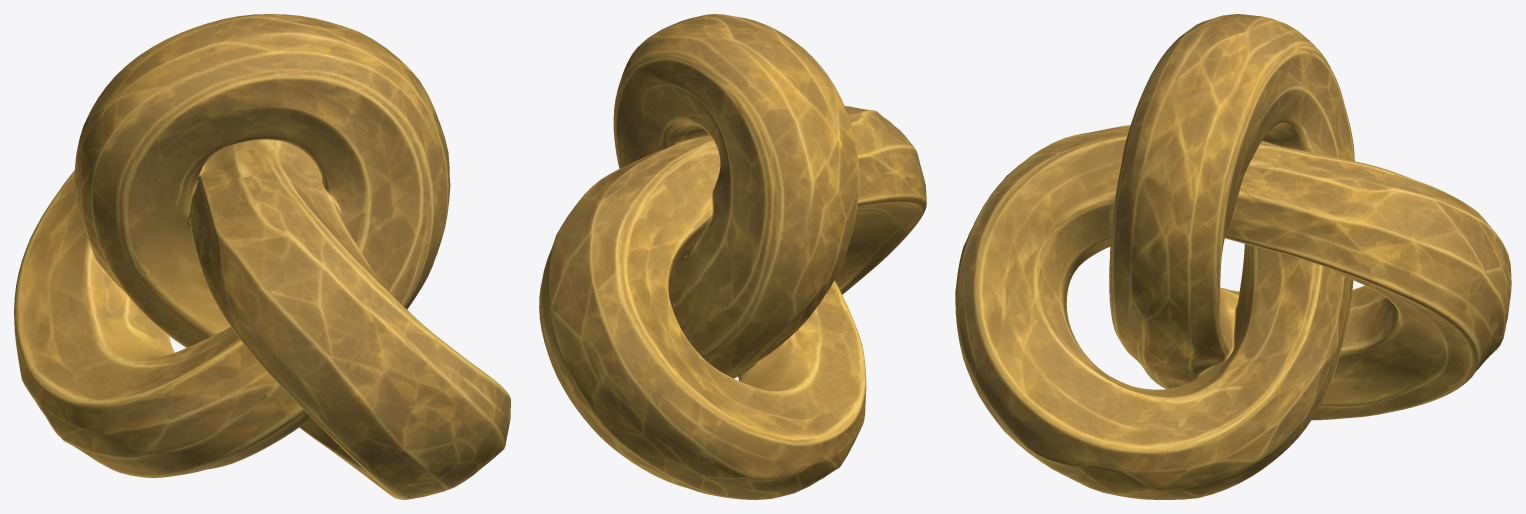
Rendered from bonus_special_HIGH_30k.fbx.
3 renders of one model, left to right at view 1: azimuth 30°, elevation 25°; view 2: azimuth 150°, elevation 25°; view 3: azimuth 270°, elevation 25°, orthographic. The views are drawn at different scales.
Parts seen in each view (by area): view 1: HIGH; view 2: HIGH; view 3: HIGH.
Boxes of the visible parts, x1,y1,x2,y2 form: HIGH: [14, 14, 510, 499]; HIGH: [539, 14, 926, 499]; HIGH: [955, 14, 1511, 499].
Bounding box in the file's own units: 1.24 × 1.58 × 1.9.
Materials: 1 (1 with a texture image).
